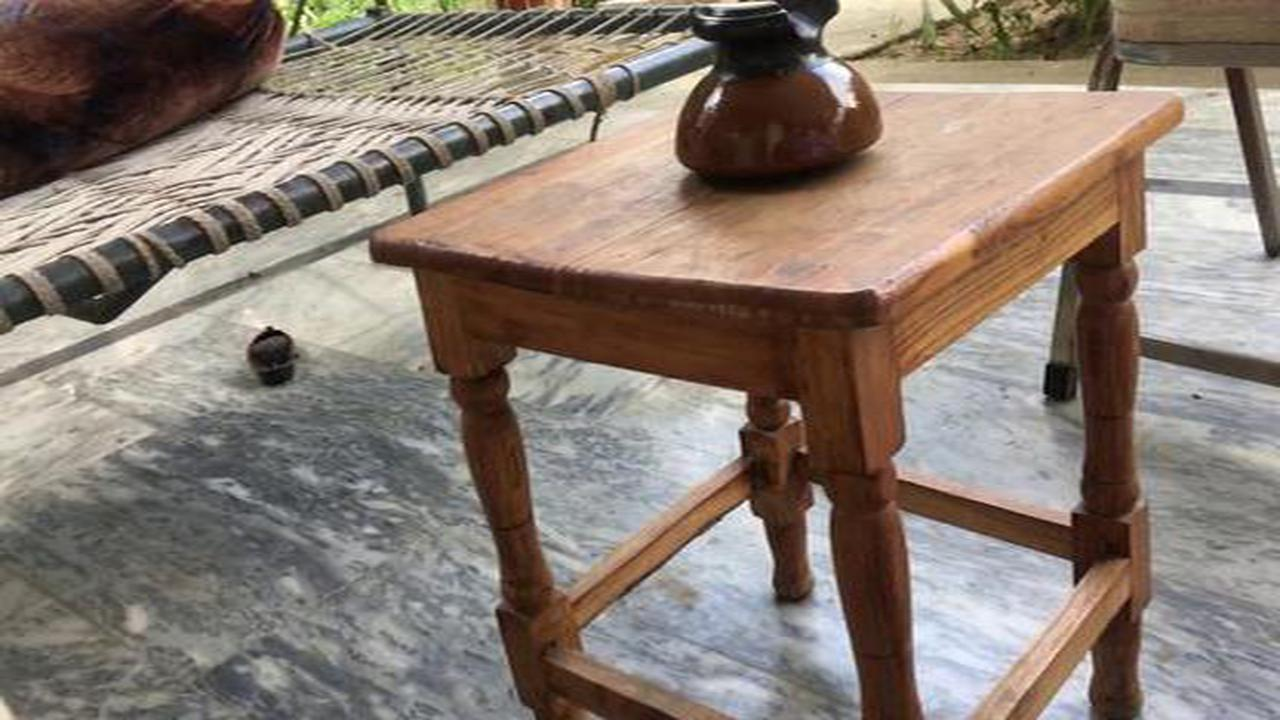insulator_pin: (647, 3, 893, 191)
